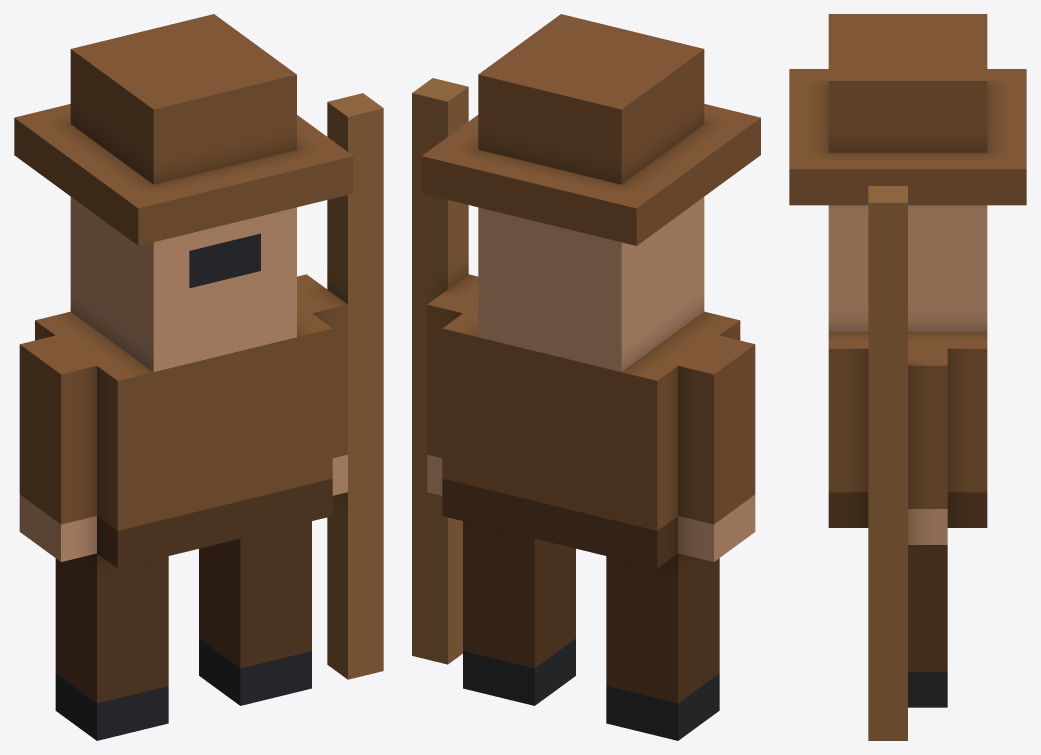
Rendered from u_scout.glb.
The picture shows the model from 3 angles, left to right: view 1: azimuth 30°, elevation 25°; view 2: azimuth 150°, elevation 25°; view 3: azimuth 270°, elevation 25°; orthographic projection. The views are drawn at different scales.
Parts seen in each view (by area): view 1: u_scout_body; view 2: u_scout_body; view 3: u_scout_body.
Part boxes in pixels (bbox=[...]): u_scout_body: bbox=[14, 14, 383, 740]; u_scout_body: bbox=[412, 14, 760, 740]; u_scout_body: bbox=[789, 14, 1026, 740].
Bounding box in the file's own units: 0.5625 × 1.06 × 0.375.
1 material, 1 textured.
